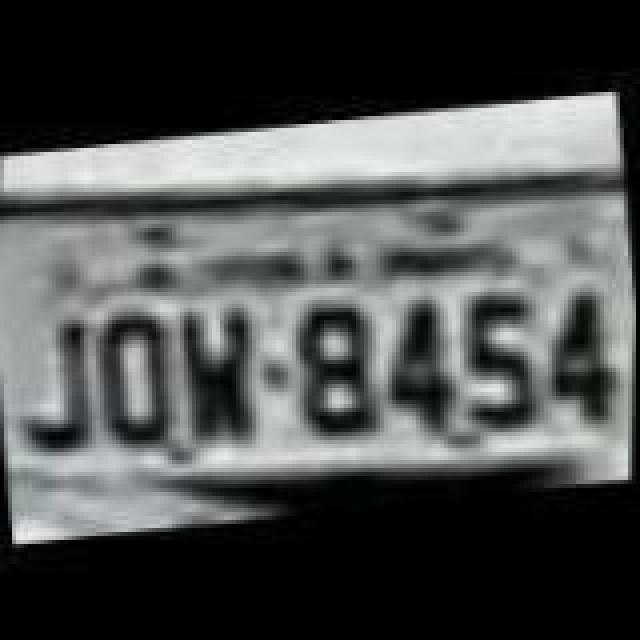4: (536, 276, 636, 432), (374, 294, 466, 446)
5: (456, 288, 552, 440)
8: (292, 296, 388, 440)
J: (8, 316, 108, 460)
O: (84, 302, 176, 450)
W: (168, 298, 268, 458)
